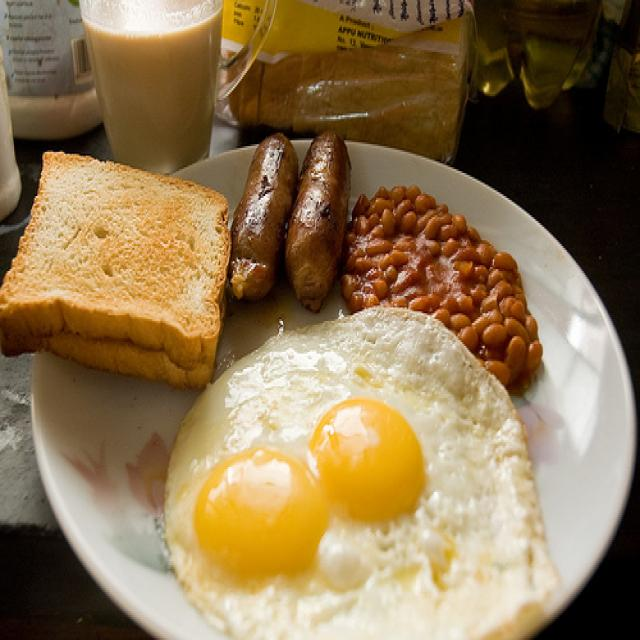面包点心: (8, 133, 232, 400)
鸡蛋料理: (173, 277, 568, 640)
